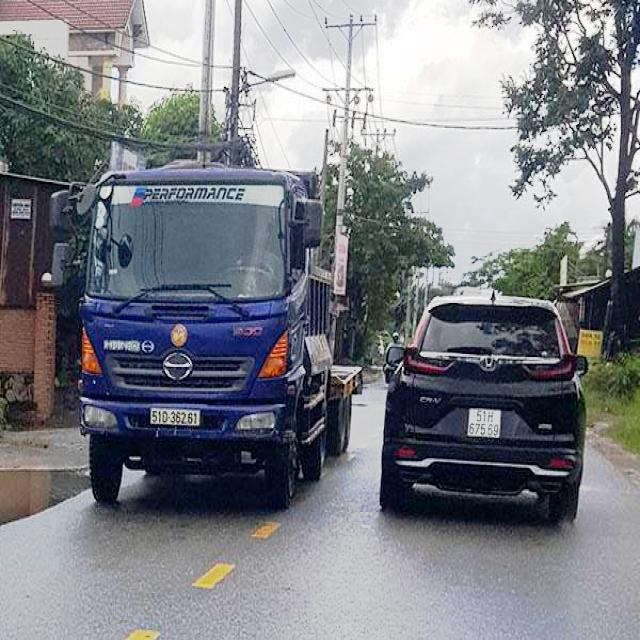license_plate: (470, 410, 501, 438), (153, 409, 201, 426)
